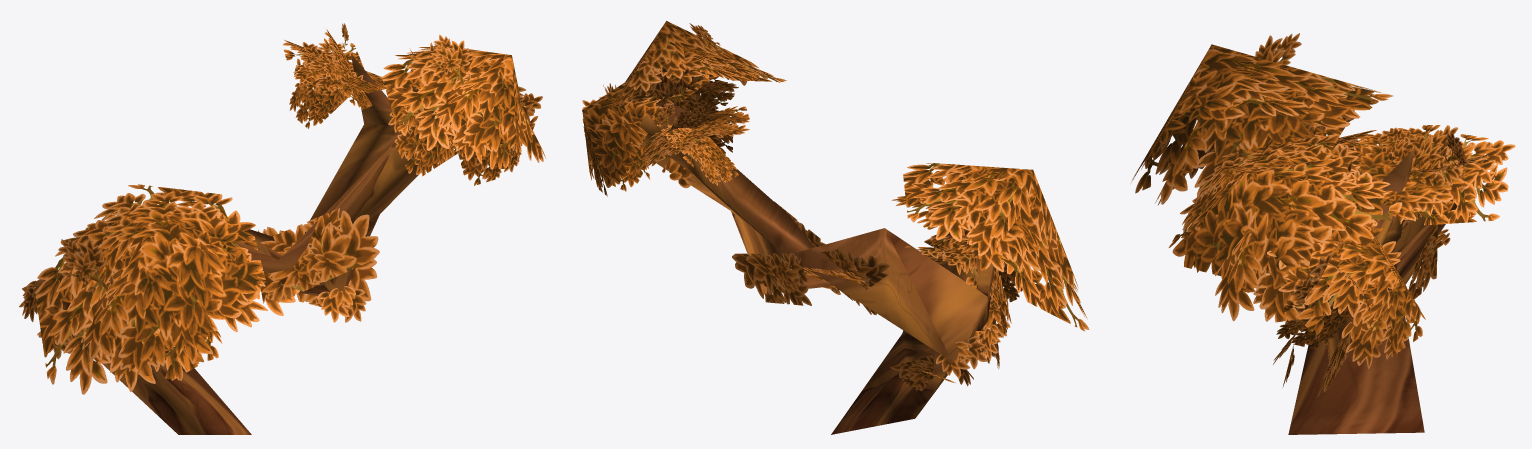
The model's file is 3_Cafe_LOD_2.fbx.
The picture shows the model from 3 angles, left to right: view 1: azimuth 30°, elevation 25°; view 2: azimuth 150°, elevation 25°; view 3: azimuth 270°, elevation 25°; orthographic projection. The views are drawn at different scales.
Visible parts, largest first — view 1: 3_Cafe_LOD_2; view 2: 3_Cafe_LOD_2; view 3: 3_Cafe_LOD_2.
Part boxes in pixels (x1=…): 3_Cafe_LOD_2: x1=19, y1=23, x2=546, y2=434; 3_Cafe_LOD_2: x1=582, y1=21, x2=1089, y2=434; 3_Cafe_LOD_2: x1=1131, y1=33, x2=1515, y2=434.
Bounding box in the file's own units: 741 × 497 × 407.
